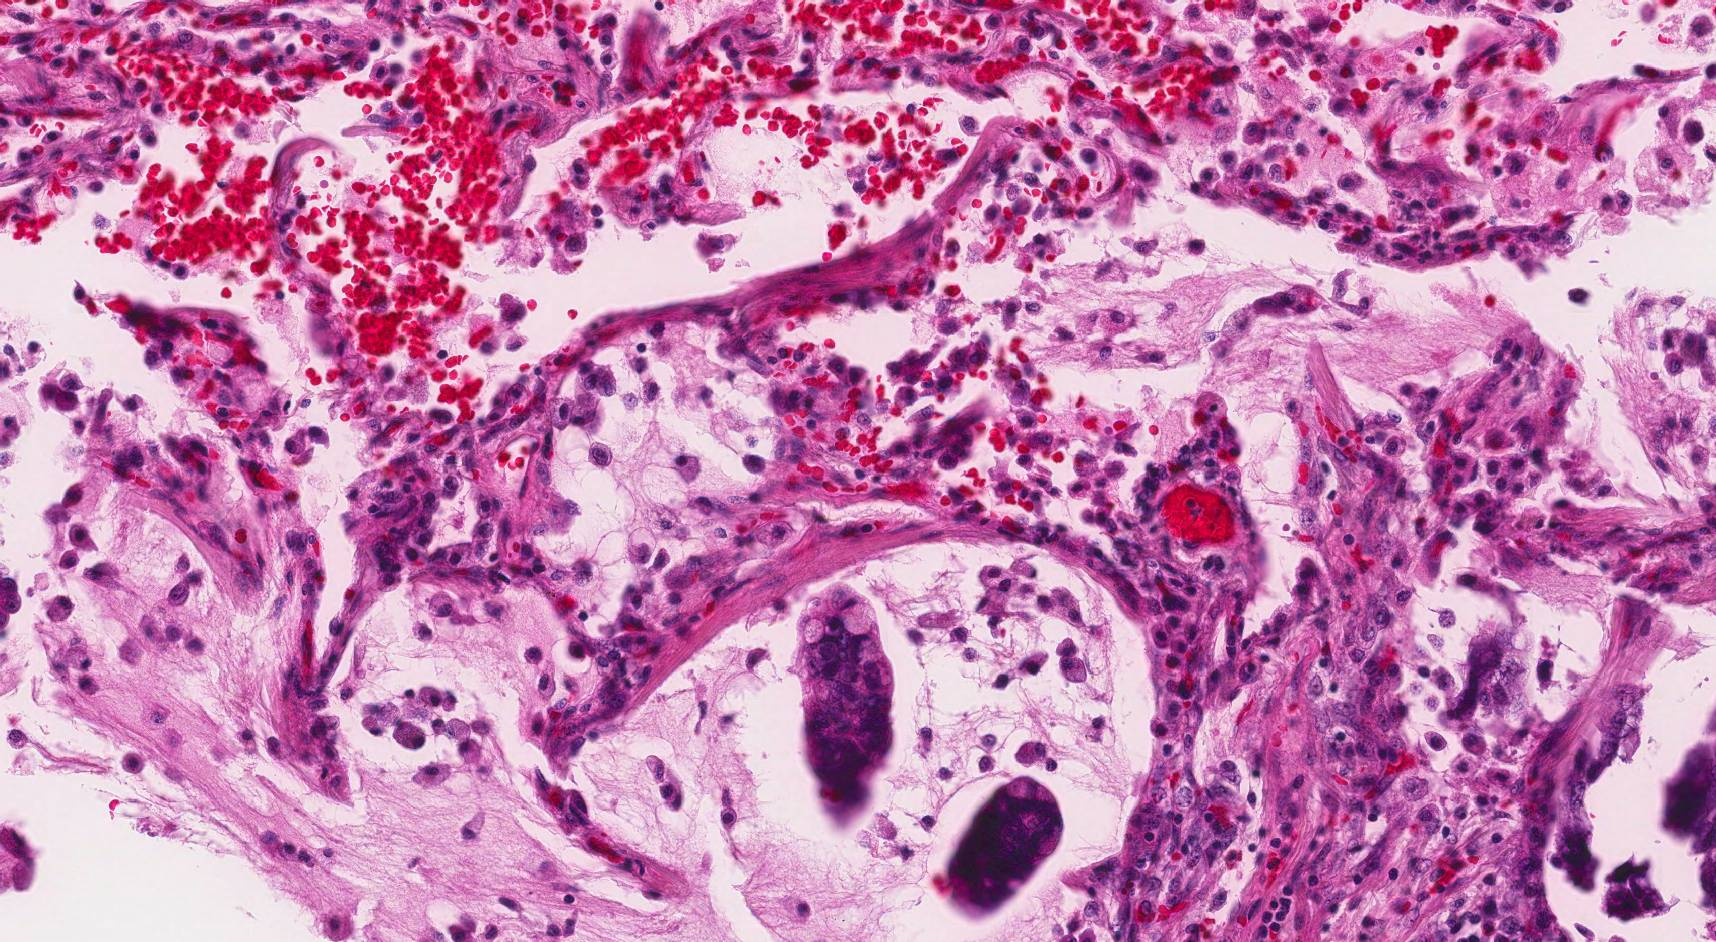stas: (794, 588, 897, 828), (942, 773, 1062, 915)
